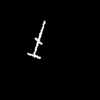double_crochet: (27, 21, 44, 58)
